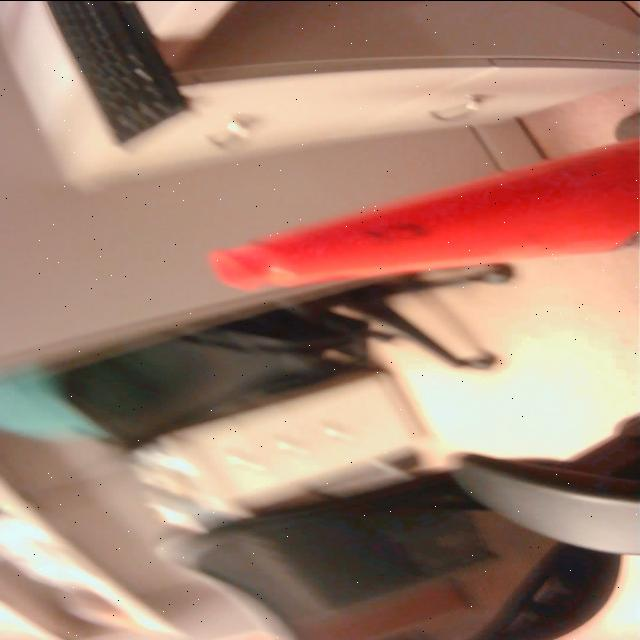traffic cone: (204, 107, 640, 295)
